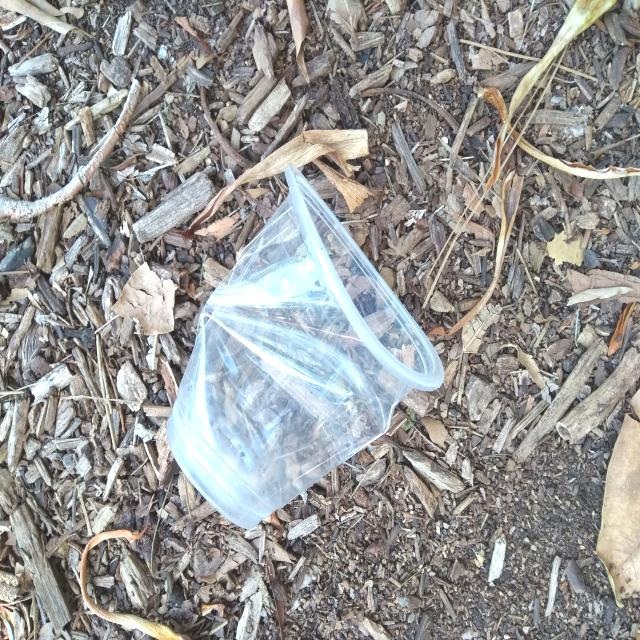Disposable plastic cup: (167, 162, 445, 529)
